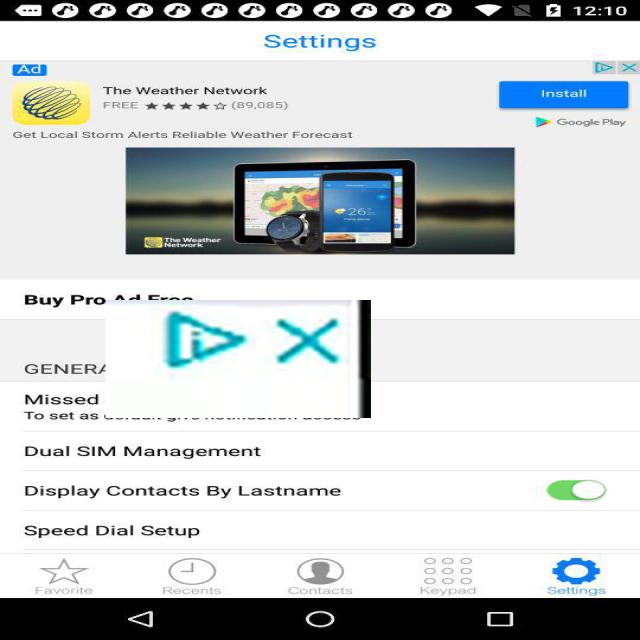sneaking: (105, 300, 371, 418)
